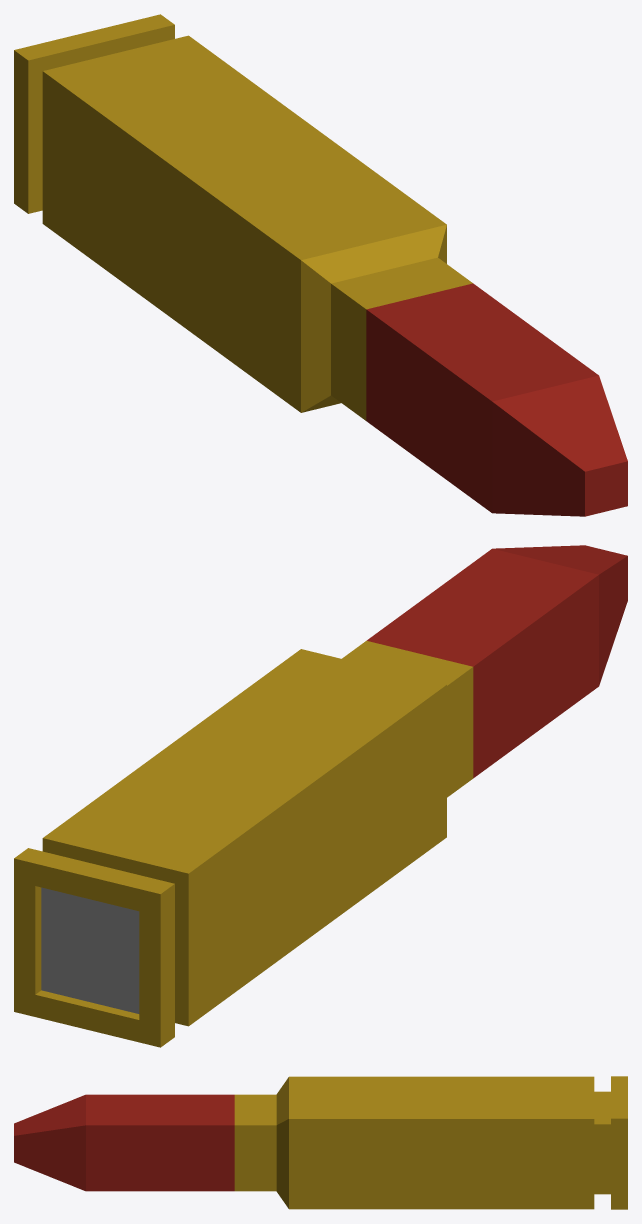
Rendered from SubMachineGunAmmo.FBX.
3 views of the same model, one above another, from view 1: azimuth 30°, elevation 25°; view 2: azimuth 150°, elevation 25°; view 3: azimuth 270°, elevation 25° (orthographic). The views are drawn at different scales.
Parts seen in each view (by area): view 1: Box015; view 2: Box015; view 3: Box015.
Part boxes in pixels (x1,y1,x2,y2): Box015: (14,14,627,516); Box015: (14,545,627,1047); Box015: (14,1076,627,1209).
Size of the model in its own units: 1.96 by 1.96 by 12.03.
